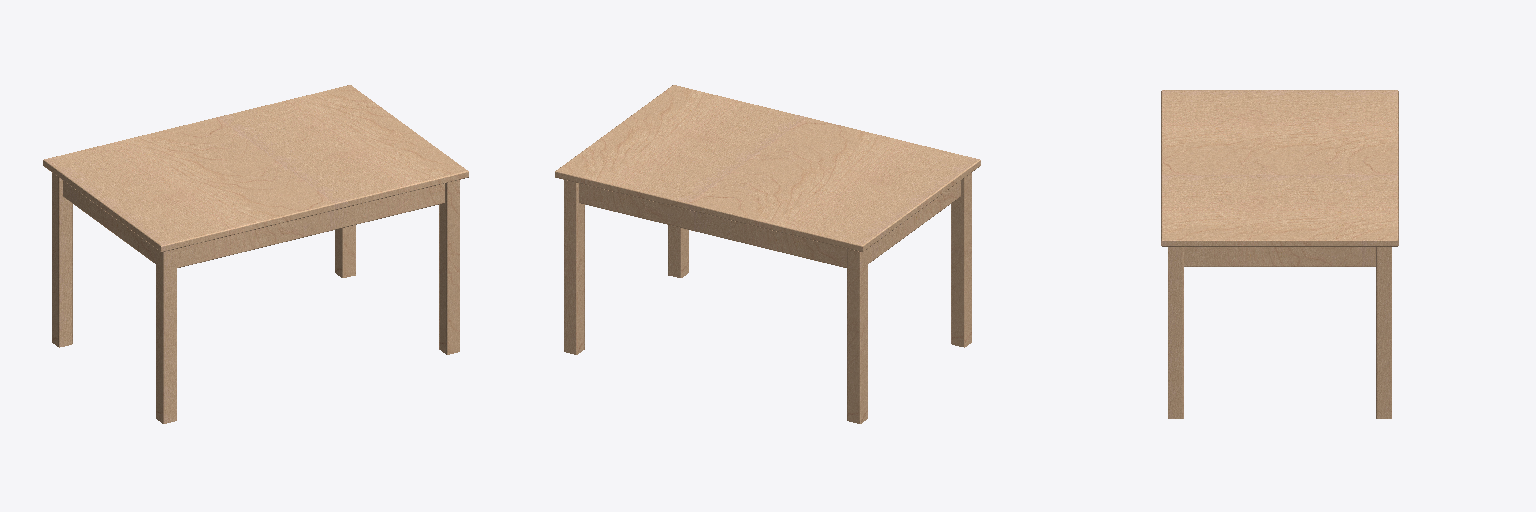
3 renders of one model, left to right at view 1: azimuth 30°, elevation 25°; view 2: azimuth 150°, elevation 25°; view 3: azimuth 270°, elevation 25°, orthographic.
Visible parts, largest first — view 1: Mesh1 Group1 Model; view 2: Mesh1 Group1 Model; view 3: Mesh1 Group1 Model.
Part boxes in pixels (bbox=[...]): Mesh1 Group1 Model: bbox=[43, 85, 468, 423]; Mesh1 Group1 Model: bbox=[555, 85, 980, 423]; Mesh1 Group1 Model: bbox=[1161, 90, 1398, 418].
Size of the model in its own units: 88.5 by 49.9 by 59.
Materials: 2 (1 with a texture image).